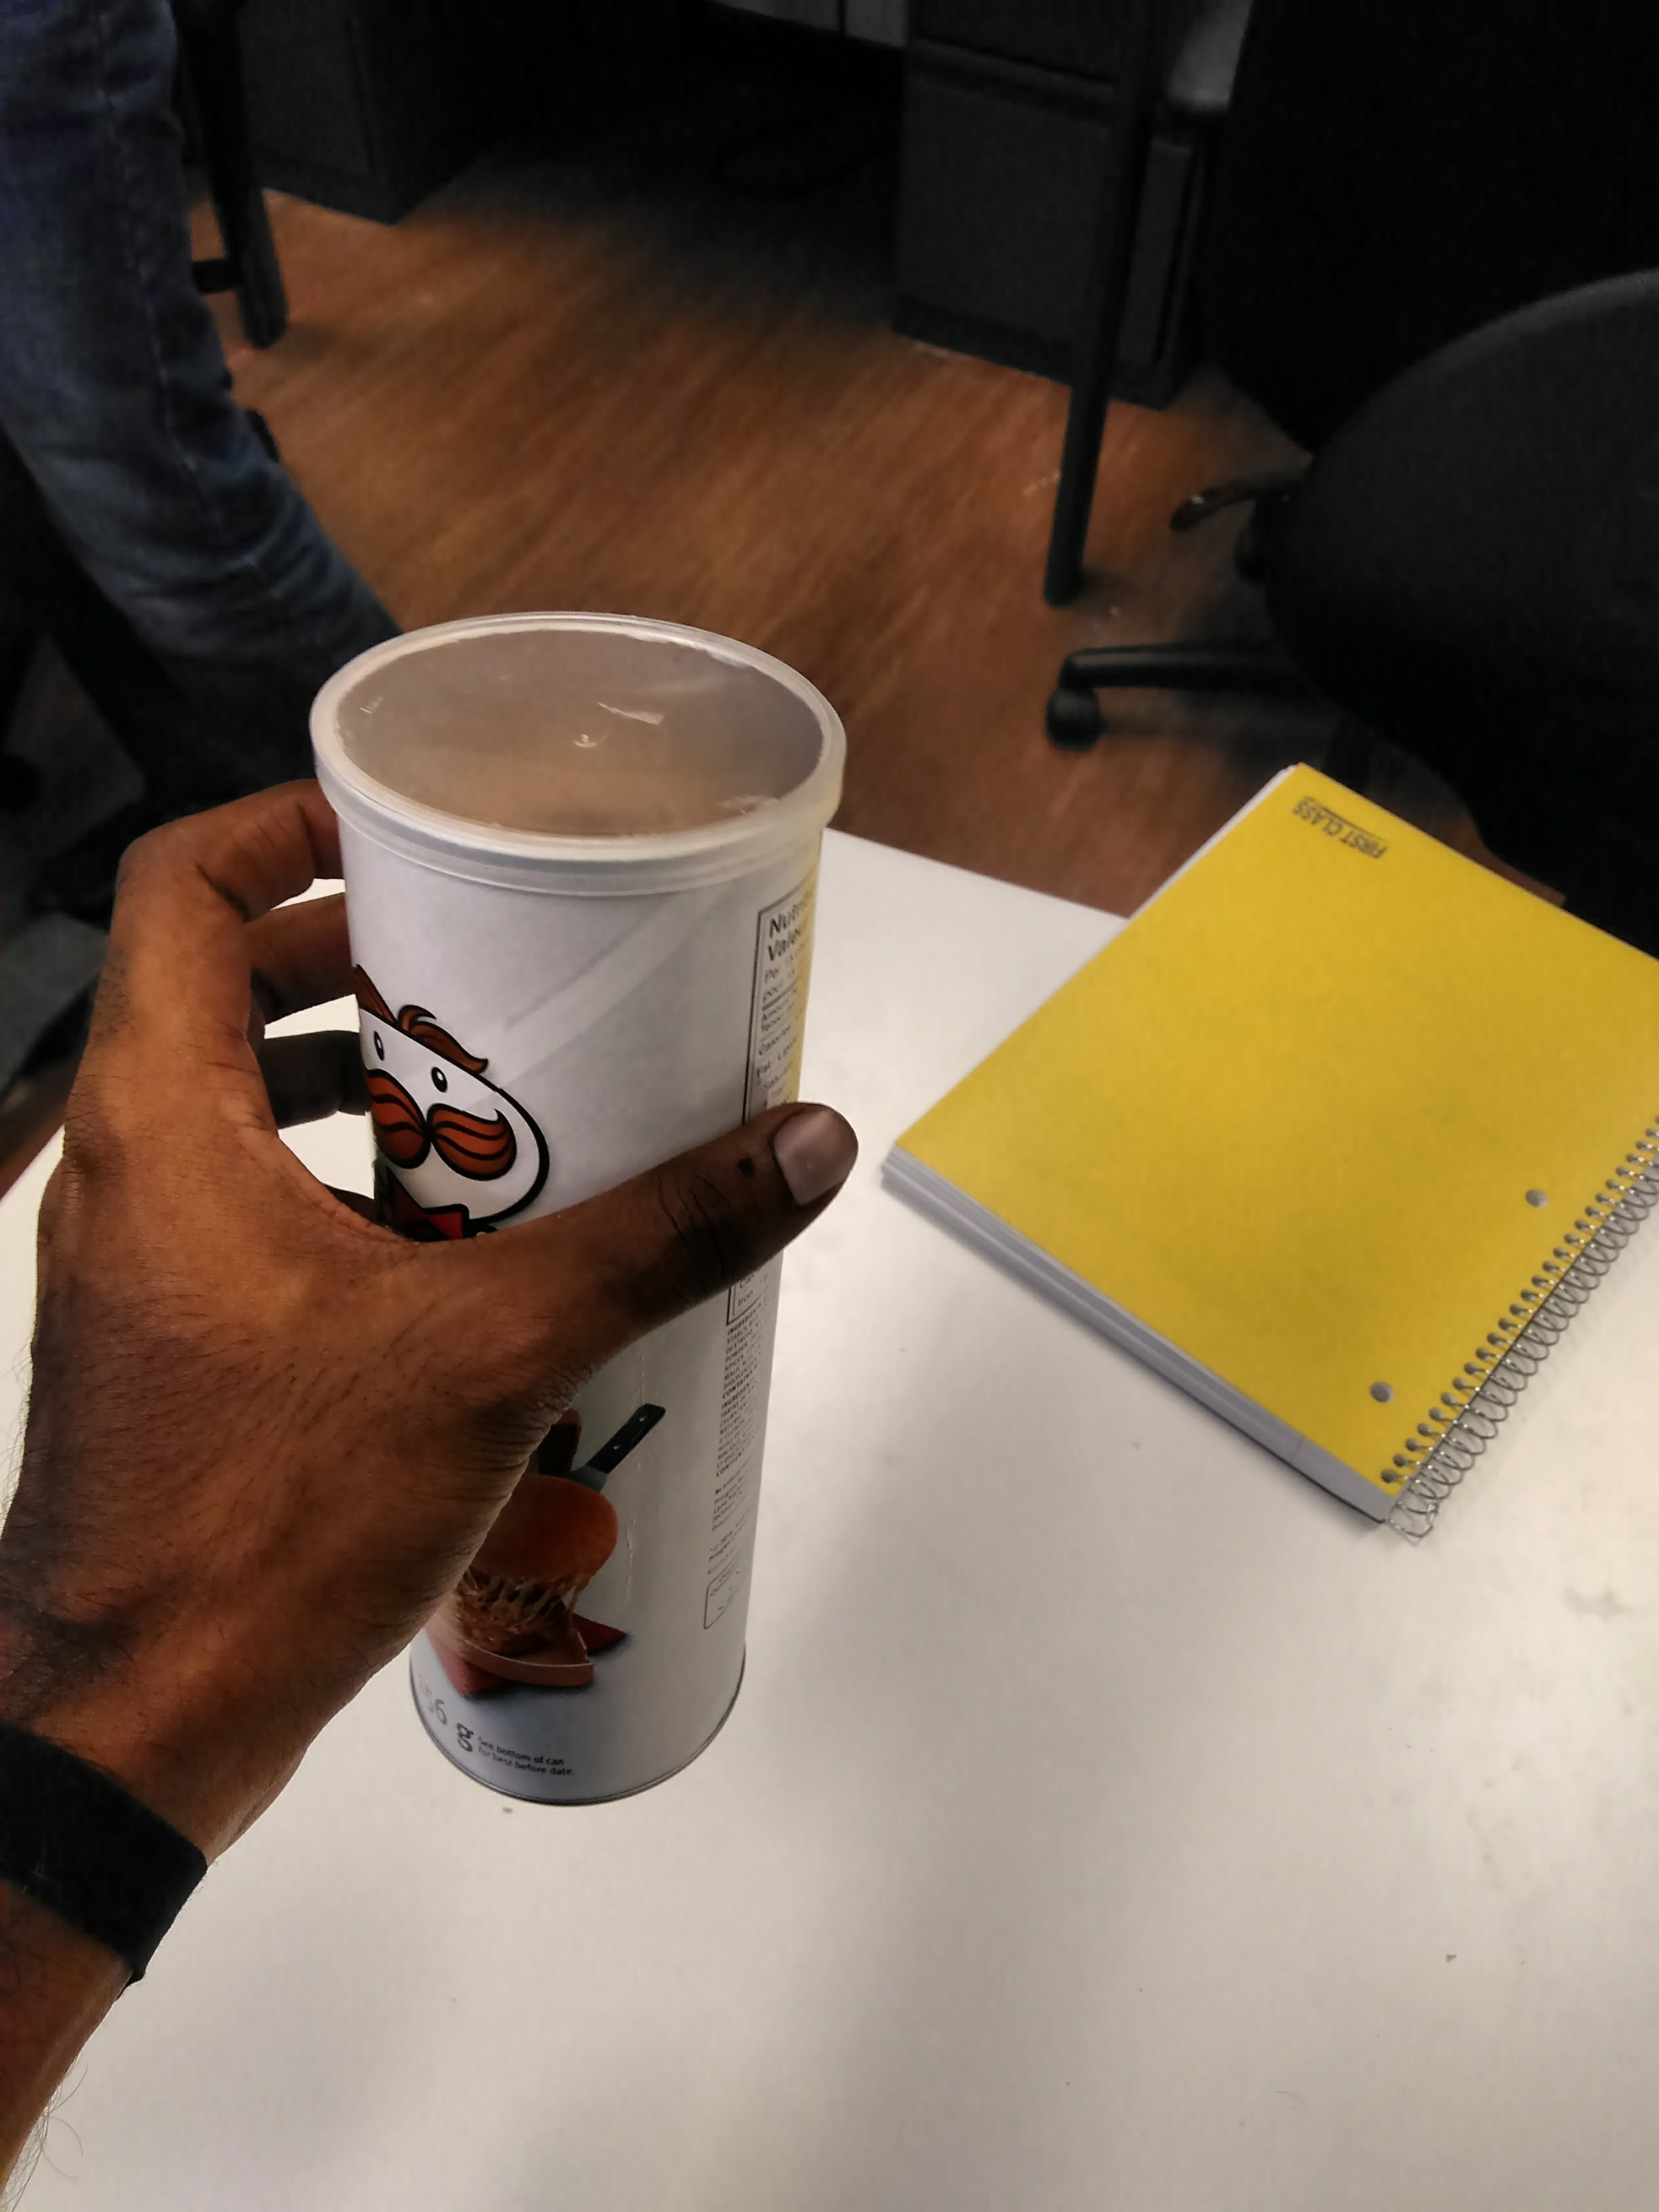pringles: (289, 601, 861, 1818)
